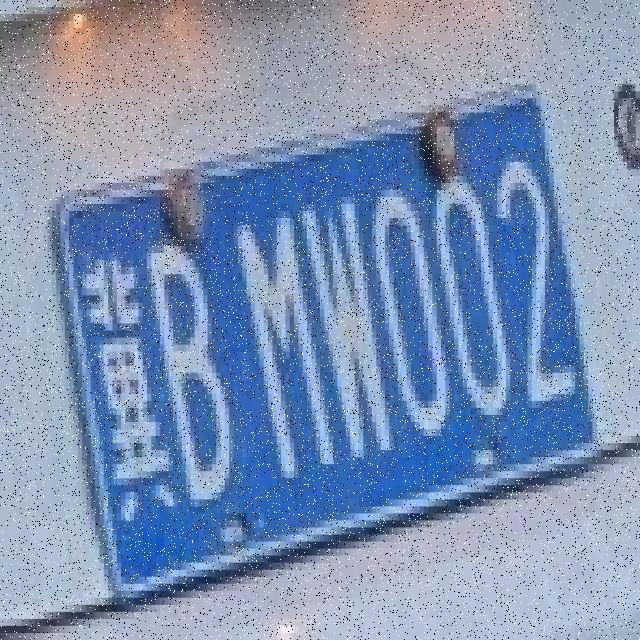LicensePlate: (36, 52, 614, 615)
